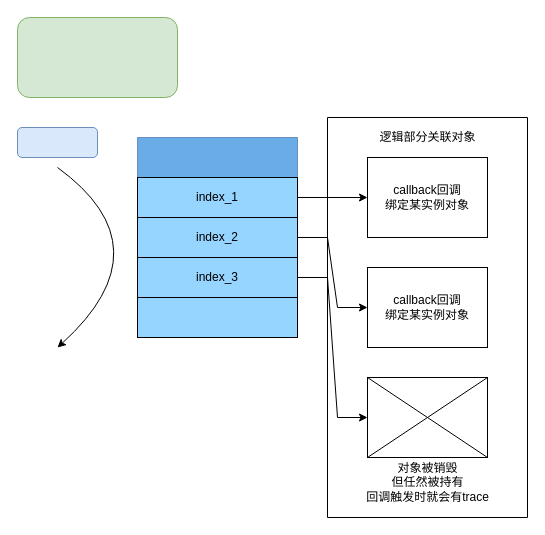
The diagram is 545 pixels wide and 535 high, and some of its shapes have lost their labels. The shapes that lost their labels are listed below. From the top down, each one's box as (x1, y1, x2, y2) in pixels, then its label:
(16, 16, 178, 98): 一个全局的单例 包含一个内存字典
(16, 126, 98, 158): delta_time
(136, 136, 298, 338): timr_dict
